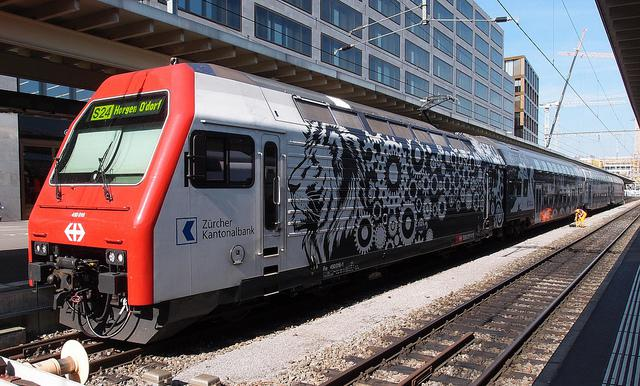Train: (30, 63, 634, 348)
